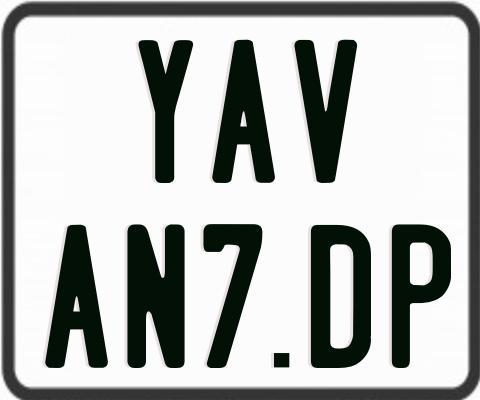7: (202, 221, 265, 367)
A: (210, 39, 278, 184), (42, 223, 106, 371)
D: (308, 223, 374, 370)
N: (124, 221, 186, 368)
P: (390, 222, 449, 372)
V: (291, 40, 358, 185)
Y: (137, 40, 193, 186)
